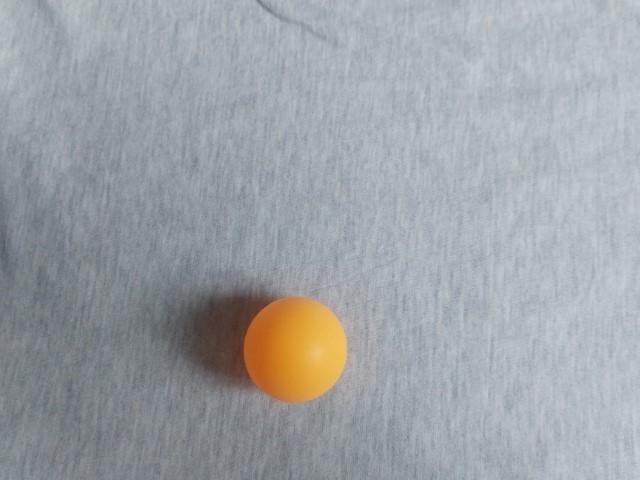oball: (286, 72, 406, 191)
